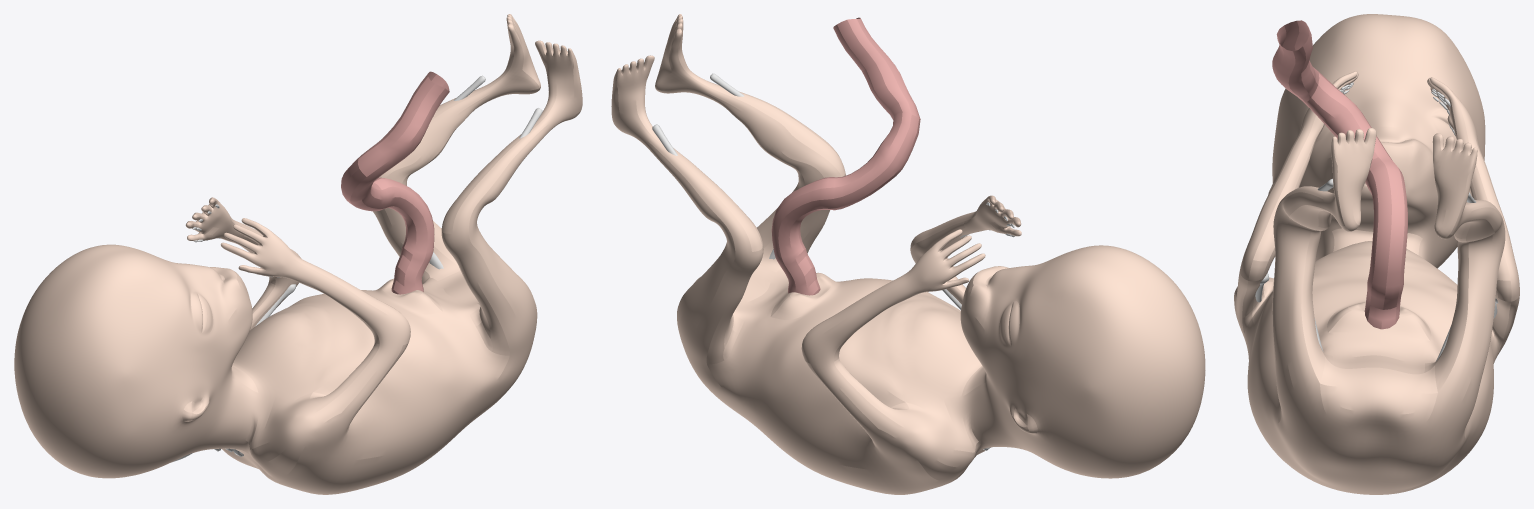
Rendered from week16.glb.
3 views of the same model, side by side, from view 1: azimuth 30°, elevation 25°; view 2: azimuth 150°, elevation 25°; view 3: azimuth 270°, elevation 25° (orthographic). The views are drawn at different scales.
Visible parts, largest first — view 1: FetusBody_Skin_Master, UmbilicalCord_Master, legbones; view 2: FetusBody_Skin_Master, UmbilicalCord_Master; view 3: FetusBody_Skin_Master, UmbilicalCord_Master, handbones, legbones.
Boxes of the visible parts, x1=… form: FetusBody_Skin_Master: x1=14, y1=14, x2=582, y2=494; UmbilicalCord_Master: x1=341, y1=71, x2=449, y2=294; legbones: x1=429, y1=75, x2=542, y2=269; FetusBody_Skin_Master: x1=611, y1=14, x2=1205, y2=494; UmbilicalCord_Master: x1=771, y1=17, x2=920, y2=295; FetusBody_Skin_Master: x1=1234, y1=14, x2=1519, y2=494; UmbilicalCord_Master: x1=1272, y1=20, x2=1407, y2=329; handbones: x1=1255, y1=82, x2=1497, y2=318; legbones: x1=1314, y1=178, x2=1476, y2=360.
Bounding box in the file's own units: 0.9986 × 0.724 × 0.3875.
